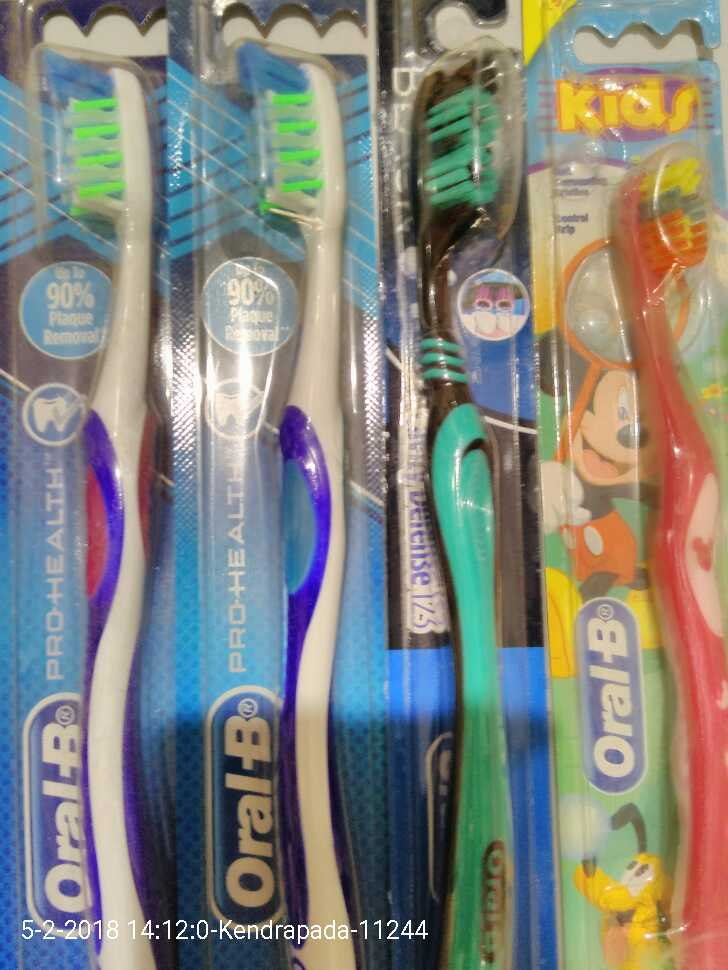pharmacy: (203, 17, 382, 917), (565, 41, 728, 961), (26, 17, 191, 920), (382, 7, 535, 970)
